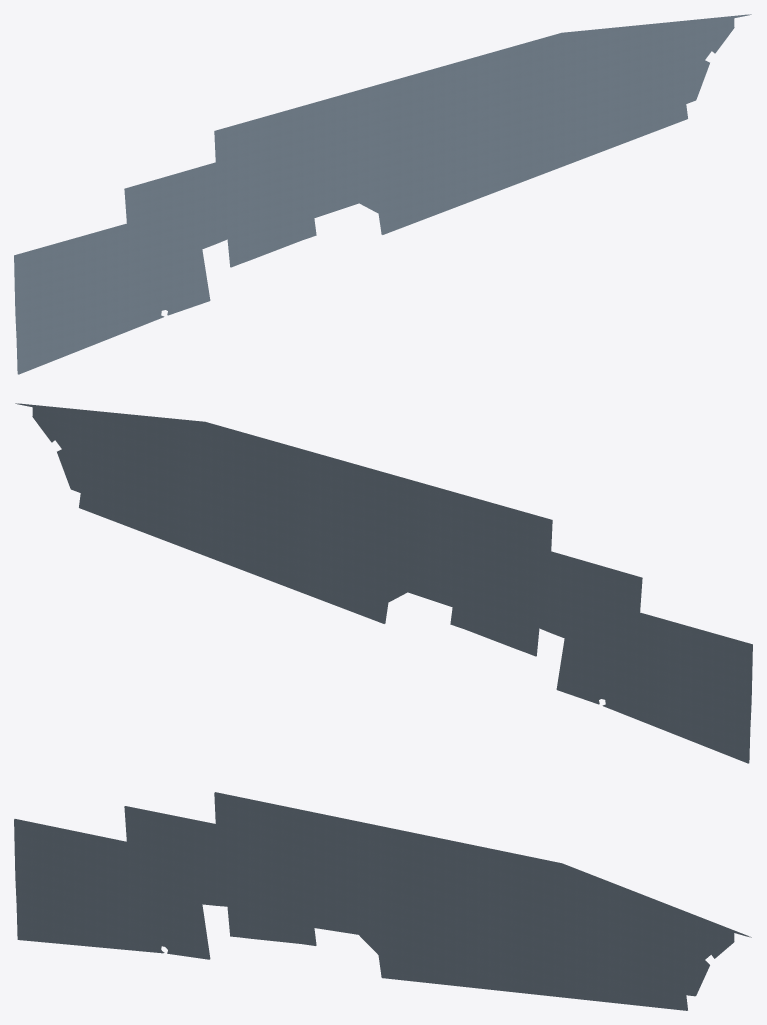
Rendered from floor_25.obj.
3 views of the same model, one above another, from view 1: azimuth 30°, elevation 25°; view 2: azimuth 150°, elevation 25°; view 3: azimuth 330°, elevation 25° (orthographic).
Parts seen in each view (by area): view 1: floor_25; view 2: floor_25; view 3: floor_25.
Boxes of the visible parts, x1,y1,x2,y2 form: floor_25: (14, 14, 751, 374); floor_25: (15, 403, 752, 763); floor_25: (14, 792, 751, 1010).
Size of the model in its own units: 67.73 by 18.31 by 0.1.
1 material, 1 textured.
